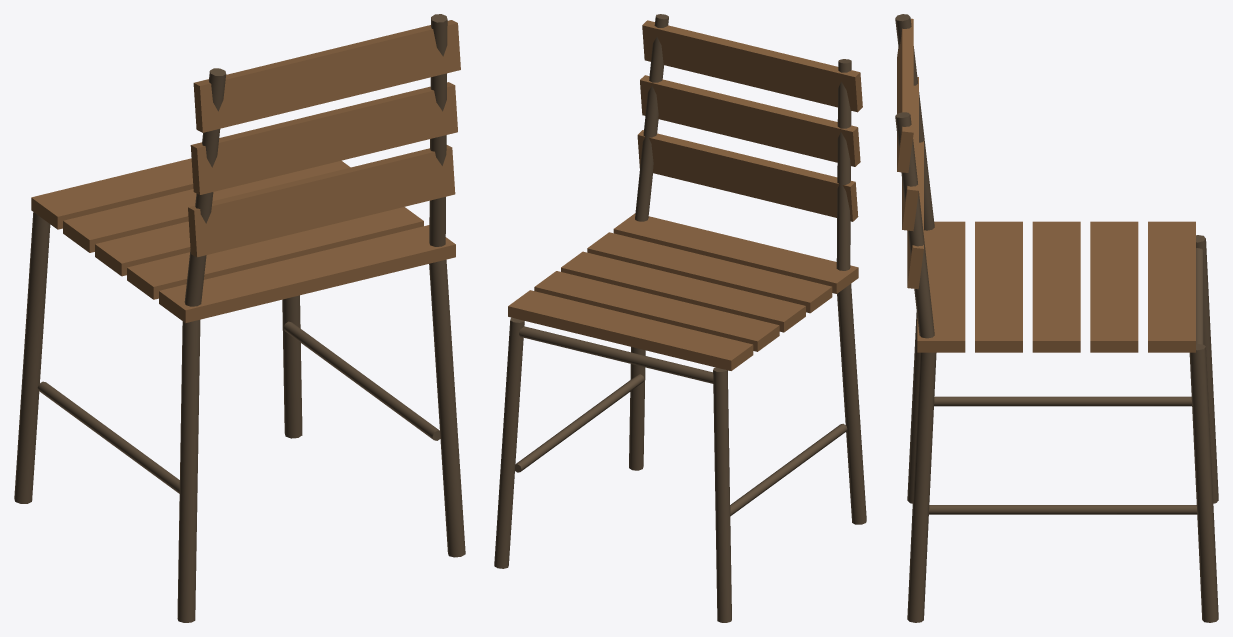
Rendered from CHAIR.glb.
The picture shows the model from 3 angles, left to right: view 1: azimuth 30°, elevation 25°; view 2: azimuth 150°, elevation 25°; view 3: azimuth 270°, elevation 25°; orthographic projection. The views are drawn at different scales.
Parts seen in each view (by area): view 1: wood_1, paint_0; view 2: wood_1, paint_0; view 3: wood_1, paint_0.
Boxes of the visible parts, box(x1,y1,x2,y2) form: wood_1: box(31, 20, 460, 323); paint_0: box(14, 14, 465, 622); wood_1: box(508, 20, 862, 370); paint_0: box(494, 14, 866, 622); wood_1: box(897, 18, 1195, 352); paint_0: box(895, 14, 1218, 622).
Bounding box in the file's own units: 0.466 × 0.8521 × 0.5049.
